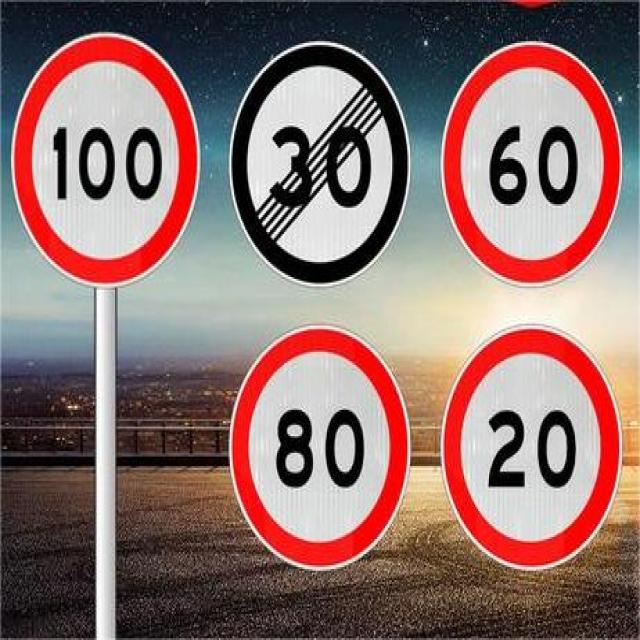speed limit 100: (9, 29, 202, 289)
speed limit 20: (441, 322, 623, 570)
speed limit 60: (440, 41, 624, 288)
speed limit 80: (228, 323, 412, 570)
